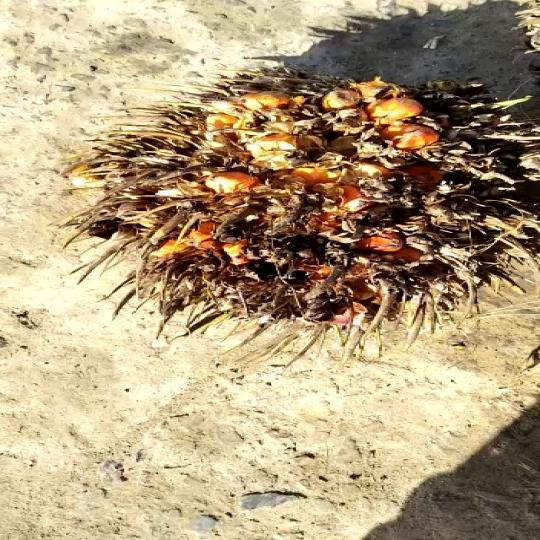terlalu masak: (38, 53, 540, 359)
